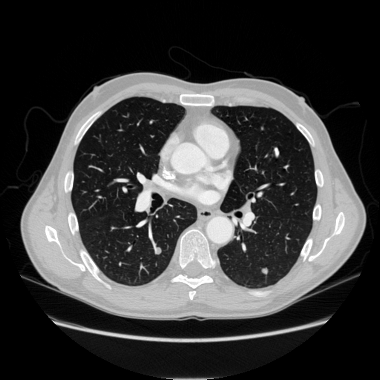nodule: (154, 246, 162, 254)
